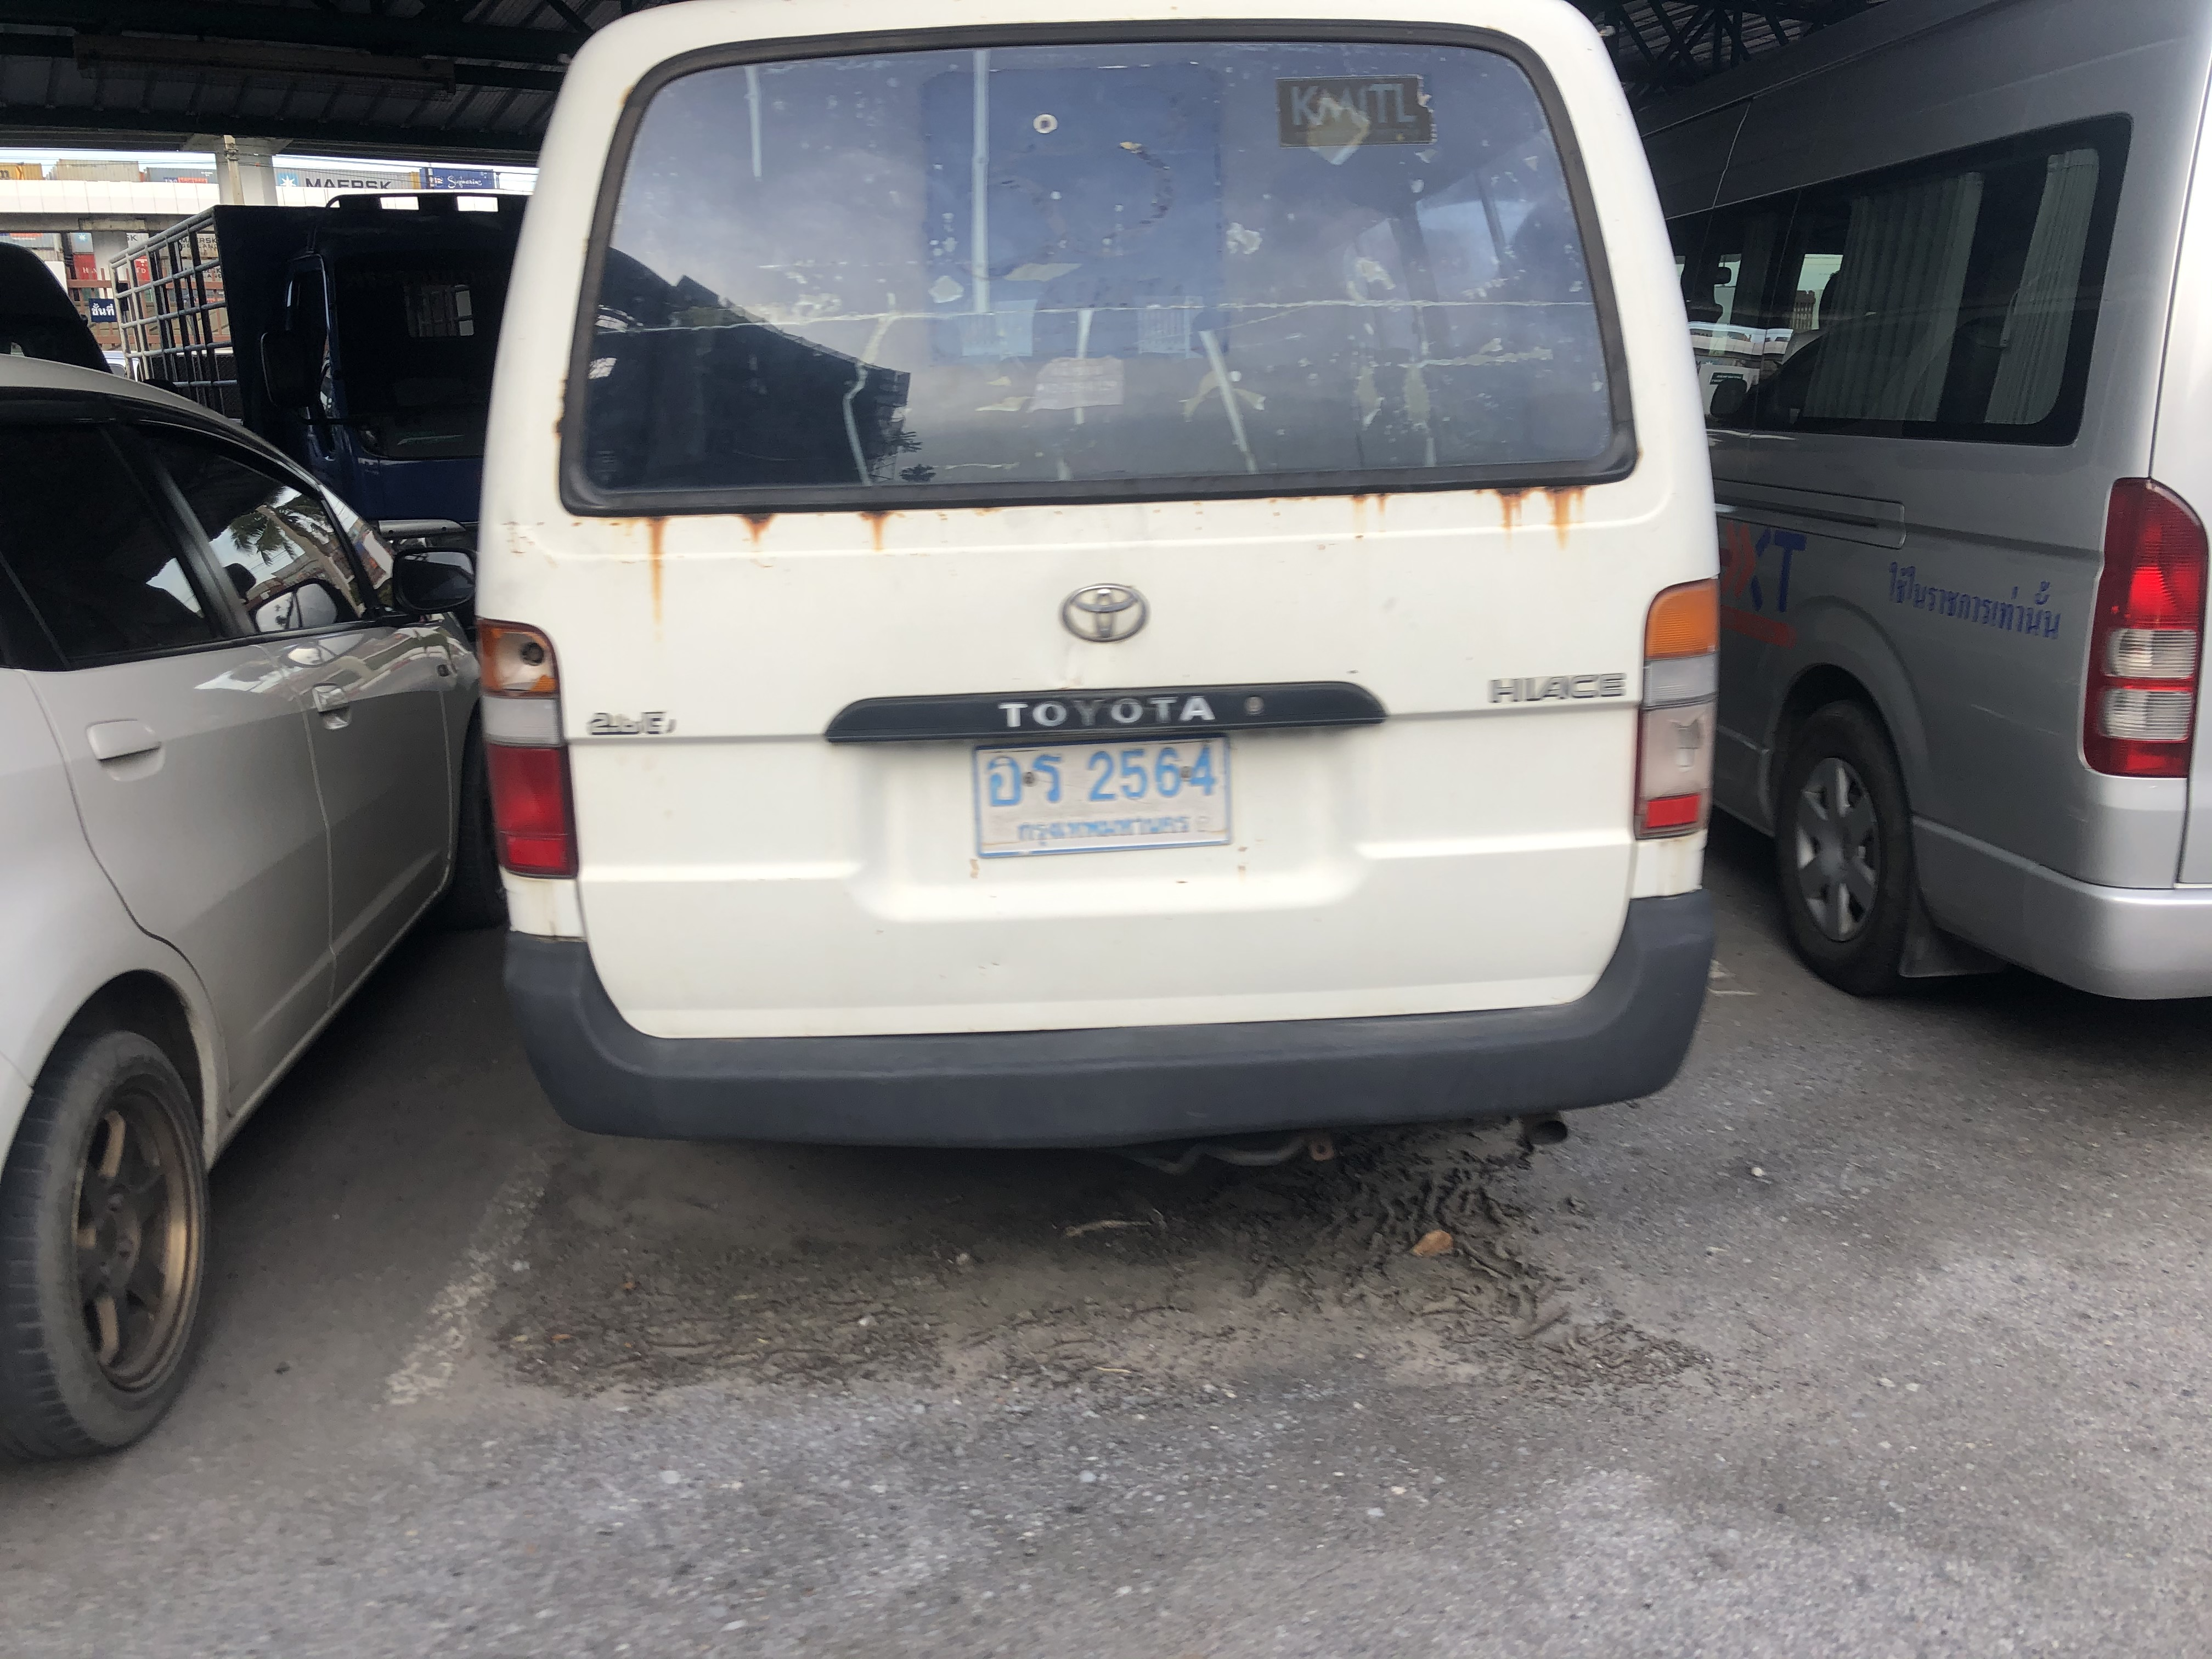in: (972, 734, 1231, 845)
